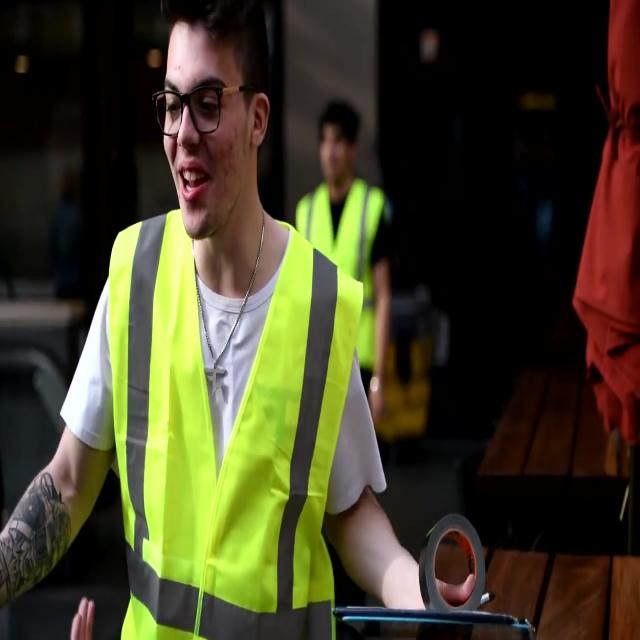Reflective-Jacket: (102, 216, 360, 636), (290, 173, 399, 373)
